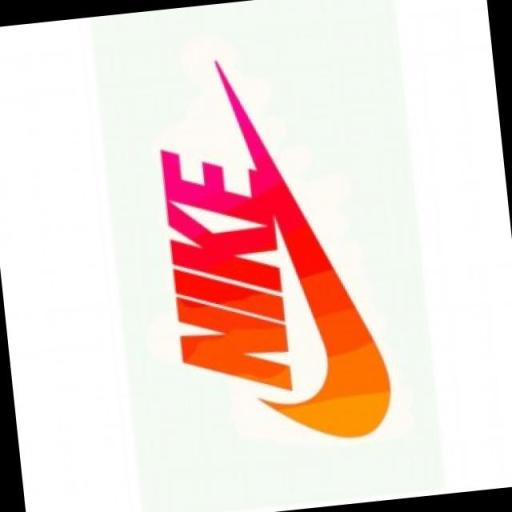Nike: (208, 37, 402, 452), (159, 134, 299, 402)
